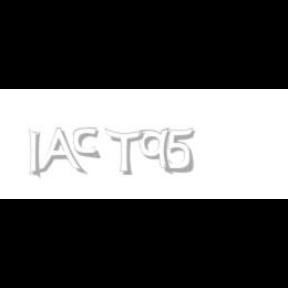5: (164, 128, 194, 174)
A: (36, 128, 84, 176)
T: (104, 128, 144, 176)
c: (74, 128, 102, 160)
l: (29, 128, 45, 180)
q: (138, 128, 174, 176)
